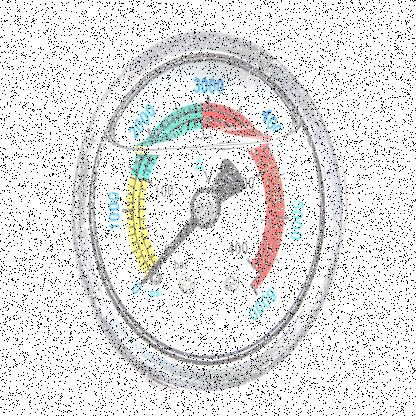needle: (139, 215, 199, 288)
